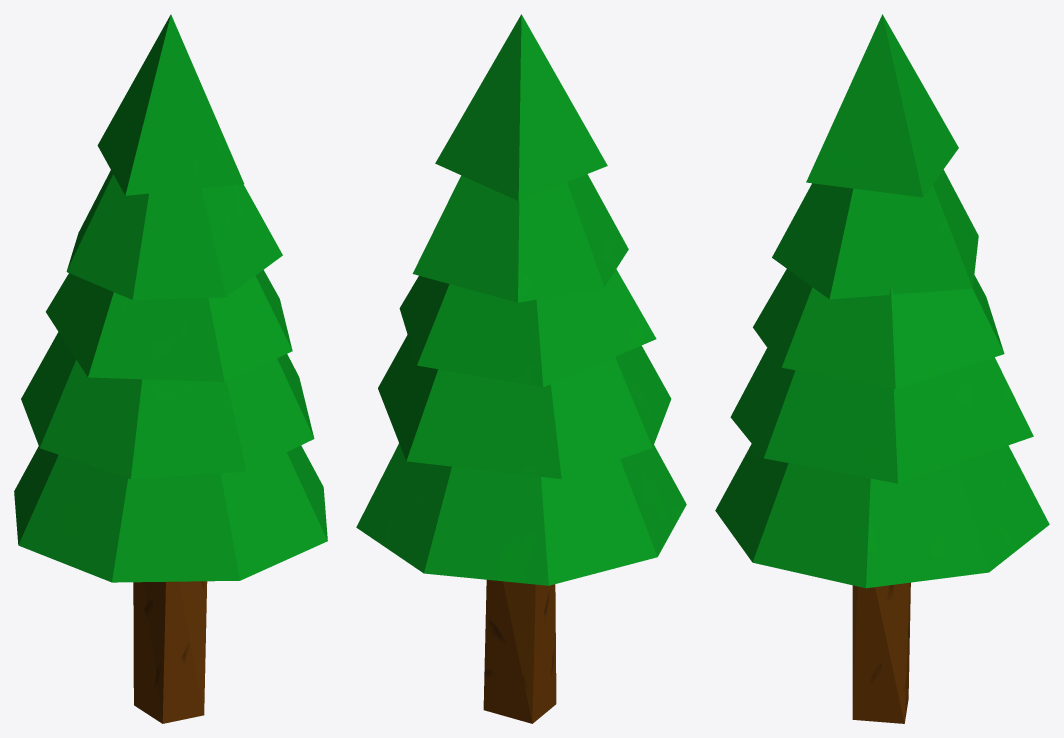
Rendered from Tree.fbx.
3 renders of one model, left to right at view 1: azimuth 30°, elevation 25°; view 2: azimuth 150°, elevation 25°; view 3: azimuth 270°, elevation 25°, orthographic.
Parts seen in each view (by area): view 1: Pine; view 2: Pine; view 3: Pine.
Part boxes in pixels (x1,y1,x2,y2): Pine: (14,14,327,723); Pine: (356,14,686,723); Pine: (715,14,1049,723).
Size of the model in its own units: 193 by 444 by 193.
